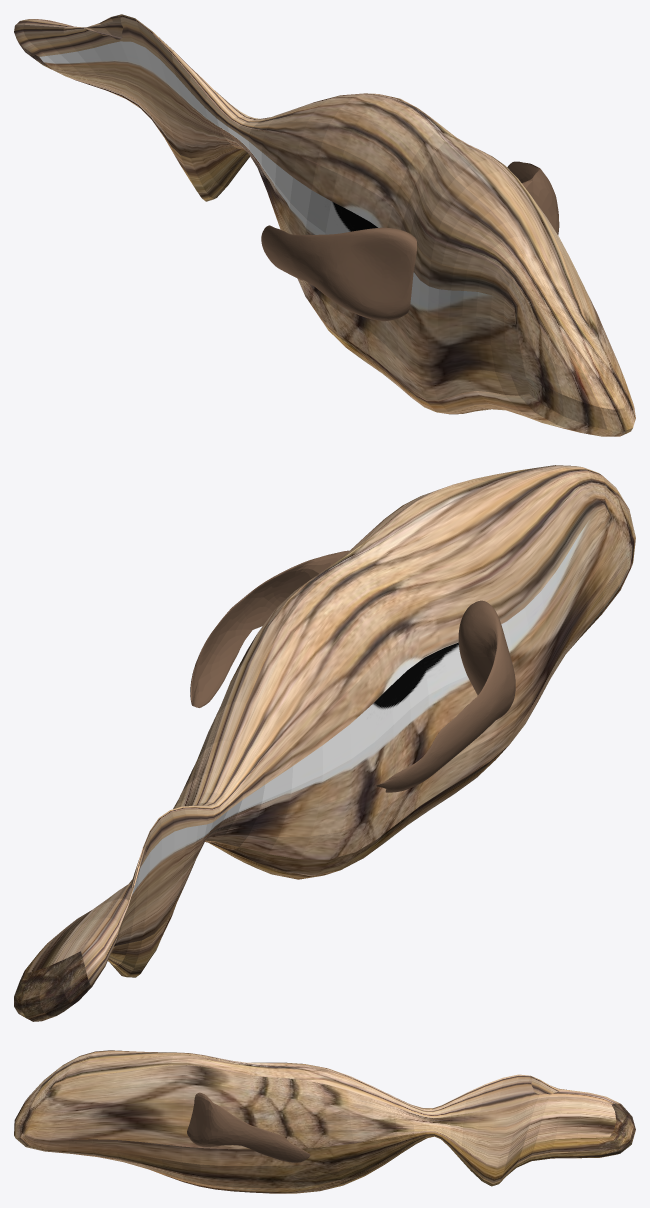
File: fish.obj
3 renders of one model, top to bottom at view 1: azimuth 30°, elevation 25°; view 2: azimuth 150°, elevation 25°; view 3: azimuth 270°, elevation 25°, orthographic. The views are drawn at different scales.
Visible parts, largest first — view 1: Cube; view 2: Cube; view 3: Cube.
Part boxes in pixels (box(x1,y1,x2,y2)): Cube: box(14, 14, 635, 436); Cube: box(14, 465, 635, 1021); Cube: box(14, 1050, 635, 1193).
Size of the model in its own units: 3.71 by 3.69 by 14.58.
1 material, 1 textured.
